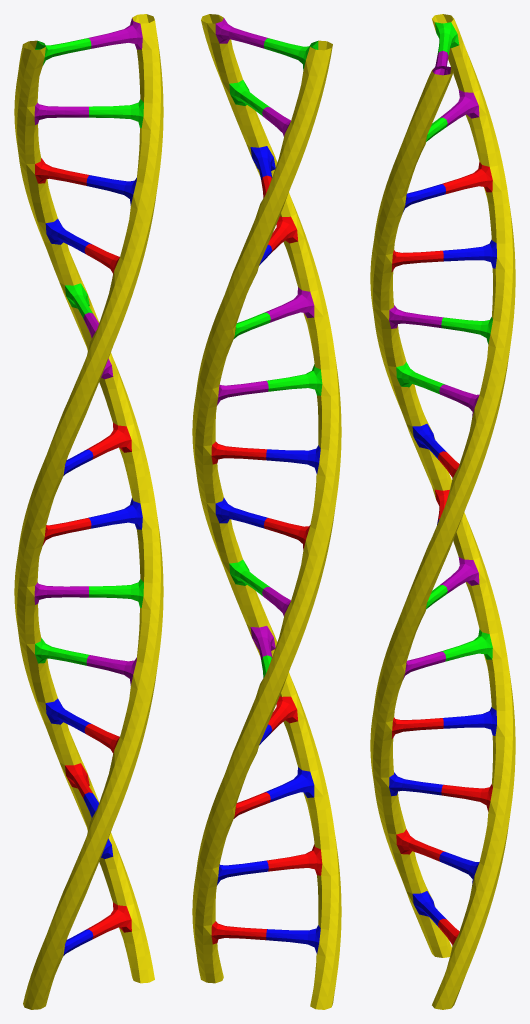
3 renders of one model, left to right at view 1: azimuth 30°, elevation 25°; view 2: azimuth 150°, elevation 25°; view 3: azimuth 270°, elevation 25°, orthographic. The views are drawn at different scales.
Visible parts, largest first — view 1: HaiBen, Trai.008, Phai.001, Phai.002, Trai.009, Phai.014, Trai.007, Phai.010, Trai.003, Trai.002, Phai.009, Phai.011 (+11 smaller); view 2: HaiBen, Phai.006, Trai.013, Trai.012, Phai.005, Phai.007, Trai.014, Trai.008, Phai.001, Trai.007, Phai.014, Trai.001 (+13 smaller); view 3: HaiBen, Trai.003, Phai.010, Trai.004, Phai.011, Trai.012, Phai.005, Trai.002, Phai.009, Trai.005, Phai.012, Trai.013 (+10 smaller).
Boxes of the visible parts, left/top/right/bottom form: HaiBen: left=14, top=14, right=163, bottom=1009; Trai.008: left=88, top=498, right=142, bottom=529; Phai.001: left=87, top=18, right=142, bottom=49; Phai.002: left=89, top=99, right=143, bottom=128; Trai.009: left=89, top=579, right=143, bottom=607; Phai.014: left=86, top=902, right=131, bottom=939; Trai.007: left=86, top=422, right=131, bottom=459; Phai.010: left=35, top=638, right=89, bottom=665; Trai.003: left=35, top=158, right=89, bottom=185; Trai.002: left=34, top=102, right=88, bottom=124; Phai.009: left=34, top=582, right=88, bottom=604; Phai.011: left=45, top=698, right=91, bottom=733; HaiBen: left=192, top=14, right=341, bottom=1009; Phai.006: left=266, top=364, right=322, bottom=395; Trai.013: left=266, top=844, right=322, bottom=875; Trai.012: left=264, top=767, right=314, bottom=802; Phai.005: left=265, top=287, right=314, bottom=322; Phai.007: left=266, top=445, right=320, bottom=473; Trai.014: left=266, top=925, right=320, bottom=953; Trai.008: left=215, top=498, right=267, bottom=528; Phai.001: left=215, top=18, right=268, bottom=48; Trai.007: left=211, top=441, right=266, bottom=464; Phai.014: left=211, top=921, right=266, bottom=944; Trai.001: left=263, top=38, right=318, bottom=70; HaiBen: left=370, top=14, right=515, bottom=1009; Trai.003: left=441, top=162, right=492, bottom=194; Phai.010: left=441, top=629, right=492, bottom=661; Trai.004: left=443, top=239, right=496, bottom=268; Phai.011: left=443, top=707, right=496, bottom=735; Trai.012: left=389, top=772, right=443, bottom=796; Phai.005: left=389, top=305, right=443, bottom=328; Trai.002: left=440, top=90, right=479, bottom=126; Phai.009: left=440, top=557, right=479, bottom=593; Trai.005: left=441, top=317, right=492, bottom=343; Phai.012: left=441, top=784, right=492, bottom=811; Trai.013: left=396, top=829, right=445, bottom=861.
Bounding box in the file's own units: 11.83 × 11.83 × 84.
